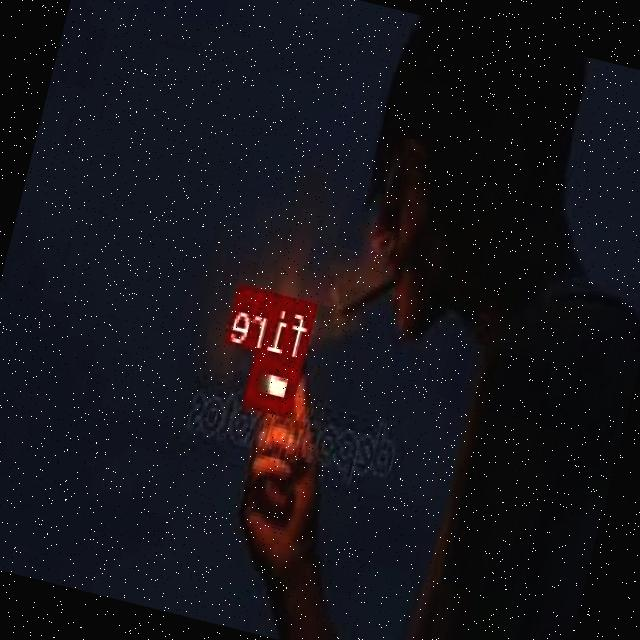fire: (247, 349, 304, 414)
